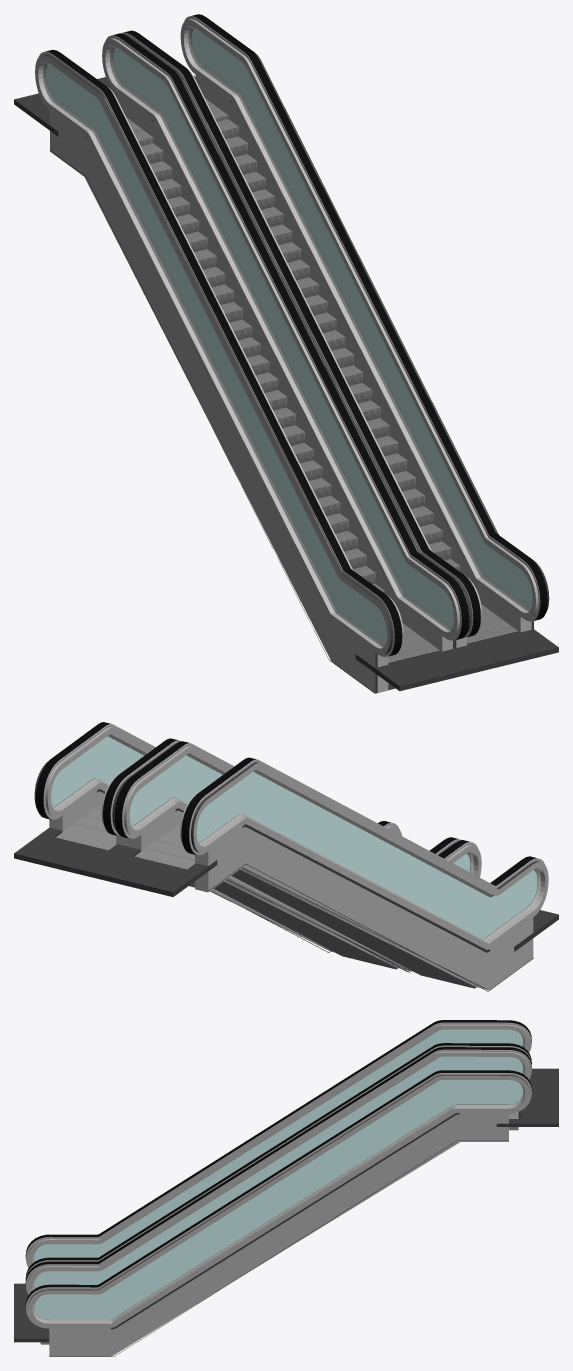
The model's file is uploads_files_1955768_Escalator.FBX.
3 views of the same model, one above another, from view 1: azimuth 30°, elevation 25°; view 2: azimuth 150°, elevation 25°; view 3: azimuth 270°, elevation 25° (orthographic). The views are drawn at different scales.
Parts seen in each view (by area): view 1: Escalator, Escalator001; view 2: Escalator, Escalator001, Step05, Step065, Step051, Step01; view 3: Escalator001, Escalator.
Part boxes in pixels (x1,y1,x2,y2): Escalator: (14,33,480,693); Escalator001: (97,14,558,671); Escalator: (93,741,558,991); Escalator001: (14,722,461,972); Step05: (135,848,194,869); Step065: (56,830,116,850); Step051: (64,824,116,844); Step01: (145,840,194,860); Escalator001: (14,1047,558,1356); Escalator: (14,1020,558,1311).
Bounding box in the file's own units: 2826 × 6792 × 11848.
